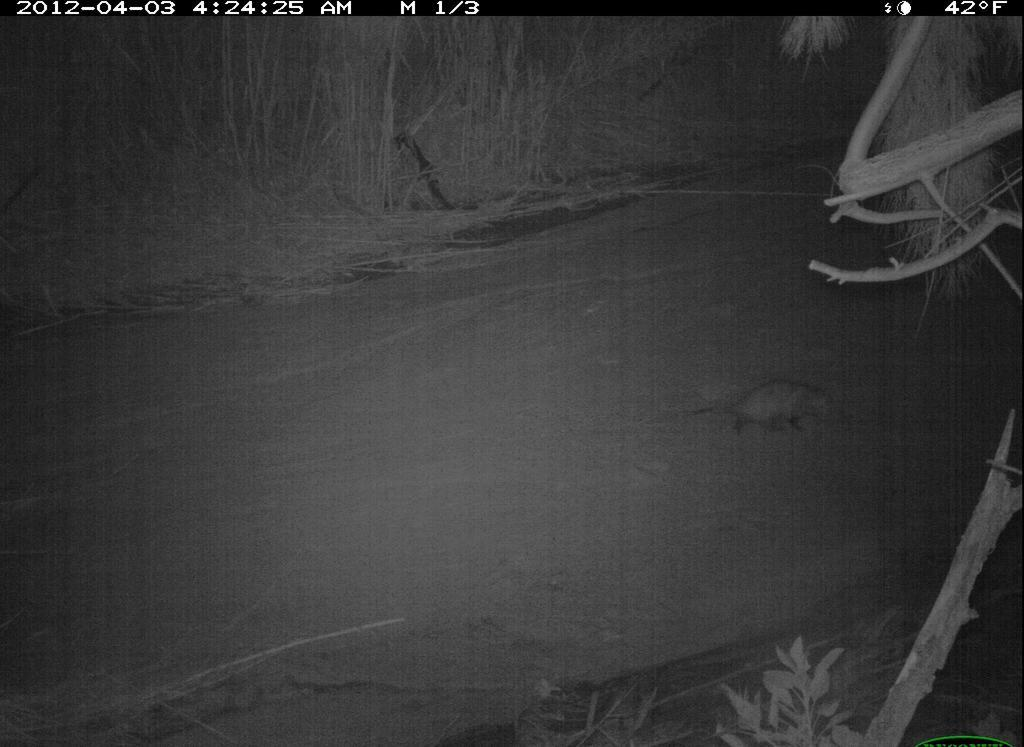opossum: (681, 361, 849, 455)
